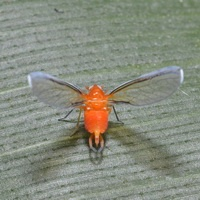insect: (28, 66, 183, 163)
